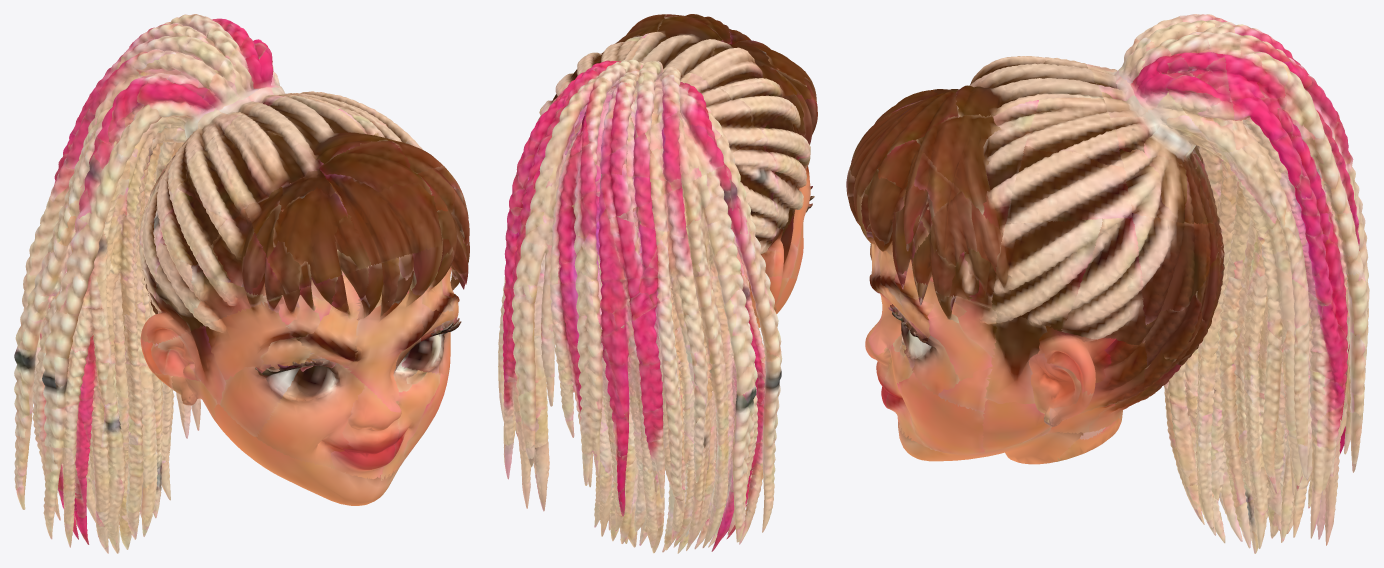
File: planet-01.lite.glb
The picture shows the model from 3 angles, left to right: view 1: azimuth 30°, elevation 25°; view 2: azimuth 150°, elevation 25°; view 3: azimuth 270°, elevation 25°; orthographic projection. The views are drawn at different scales.
Size of the model in its own units: 1.28 by 1.9 by 1.64.
1 material, 1 textured.
